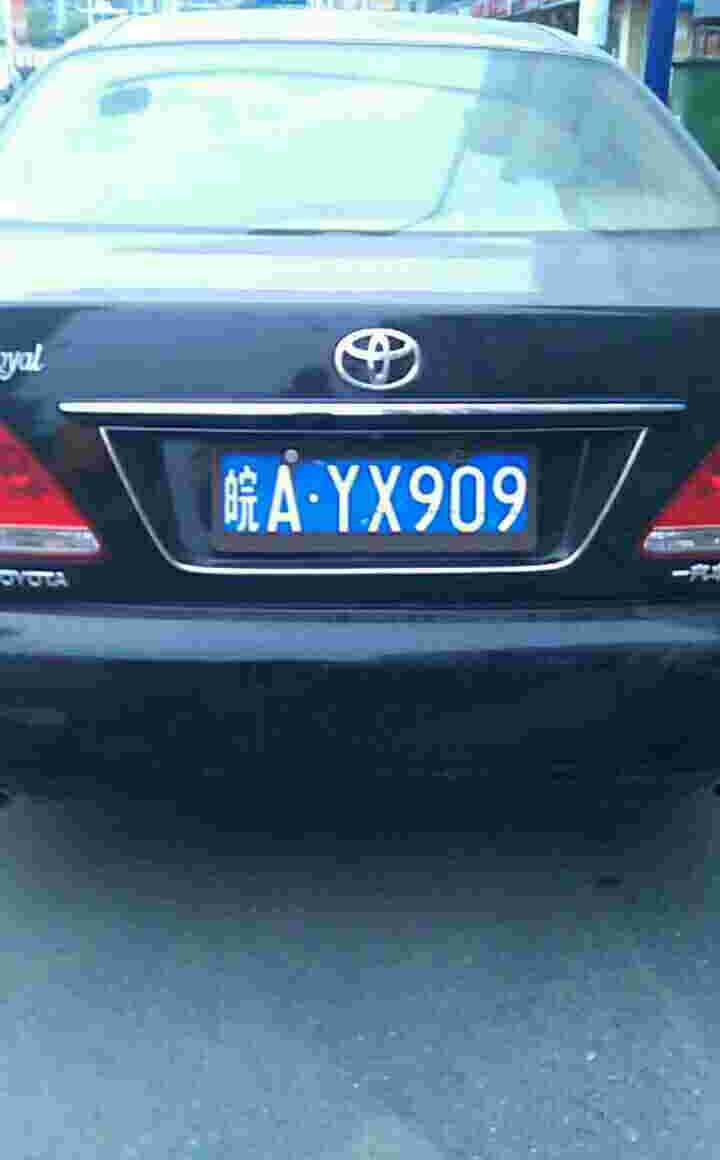license_plate: (219, 448, 544, 539)
